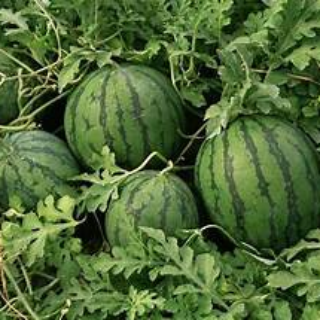dua_hau: (196, 112, 319, 255), (60, 62, 189, 169), (103, 168, 197, 254)
